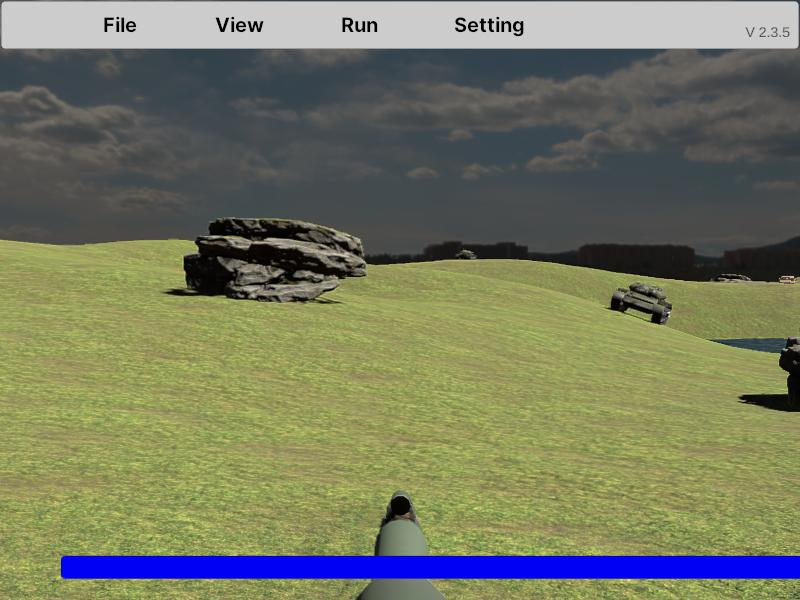Tank: (611, 282, 673, 324)
